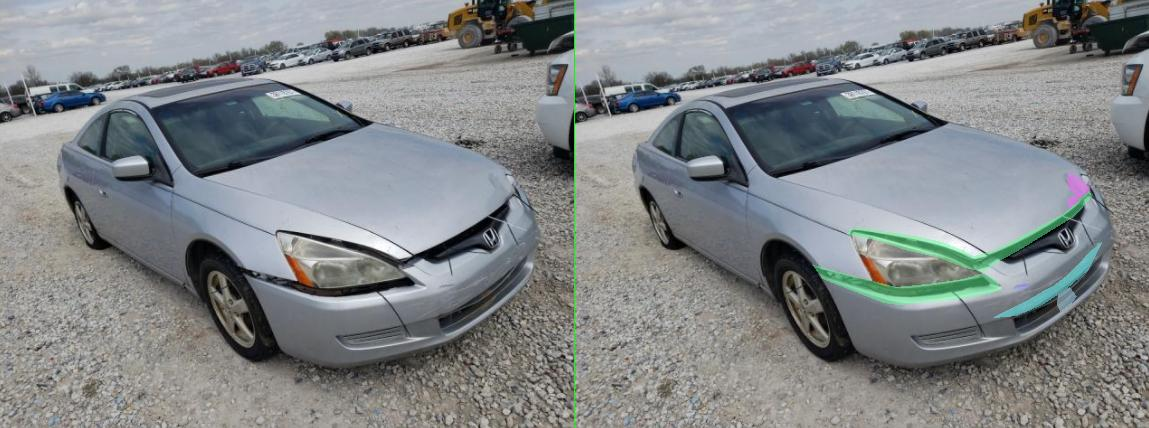Broken part: (544, 191, 1033, 271), (476, 265, 851, 304)
Corrosion: (965, 287, 1003, 311)
Dent: (985, 172, 1029, 208)
Flaking: (839, 242, 1053, 317)
Scratch: (877, 283, 909, 289)
